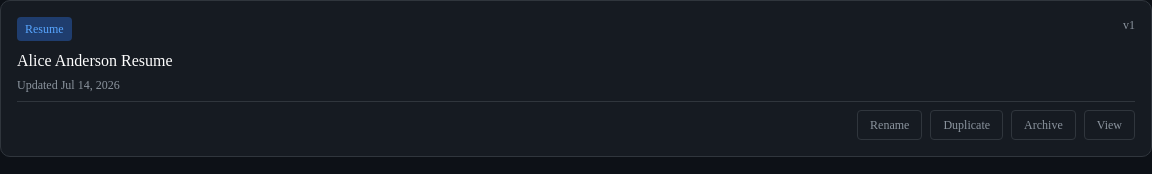
Scenario: DocumentCard › cancels rename when Escape is pressed
The width and height of the screenshot is (1152, 174).
Click the button with test id "document-rename-button" at (890, 125), box x1=857 y1=110 x2=922 y2=140
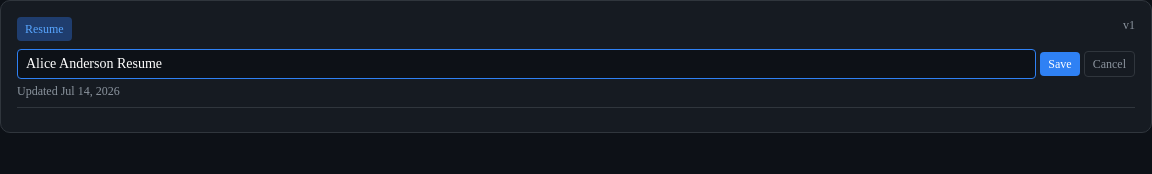
Press Escape in the field with test id "document-rename-input", box x1=17 y1=49 x2=1036 y2=79
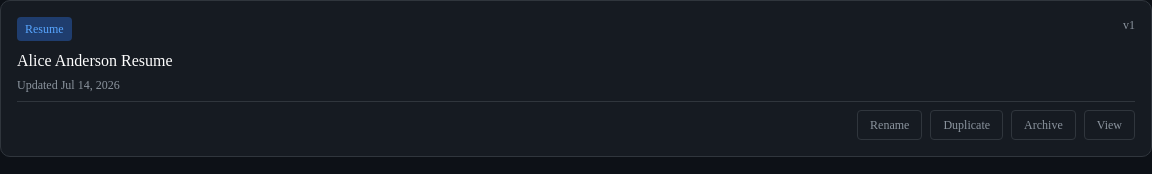
Now the heading with test id "document-title" reads "Alice Anderson Resume", box x1=17 y1=52 x2=172 y2=69
